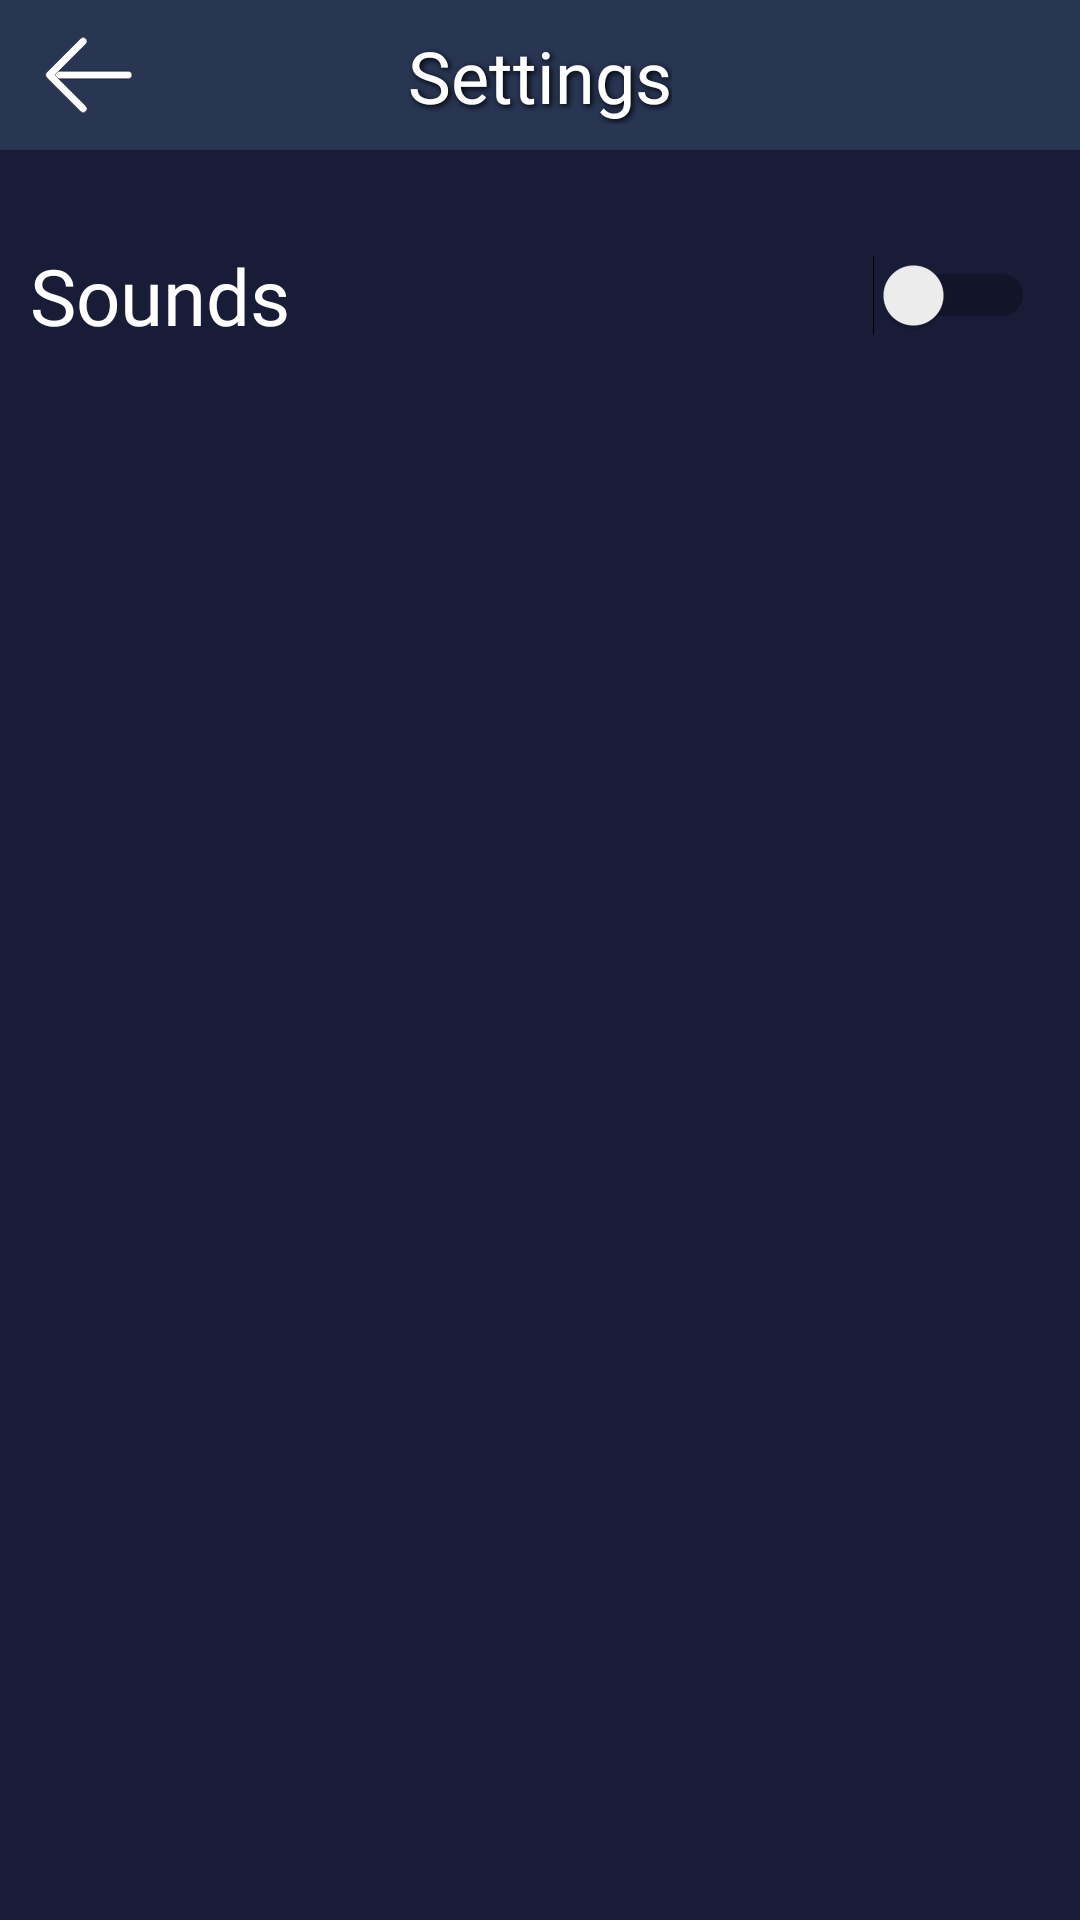

Where to tap for icons on this 1080×1920 app screen, as [x,y]:
Button back: [88,75]
